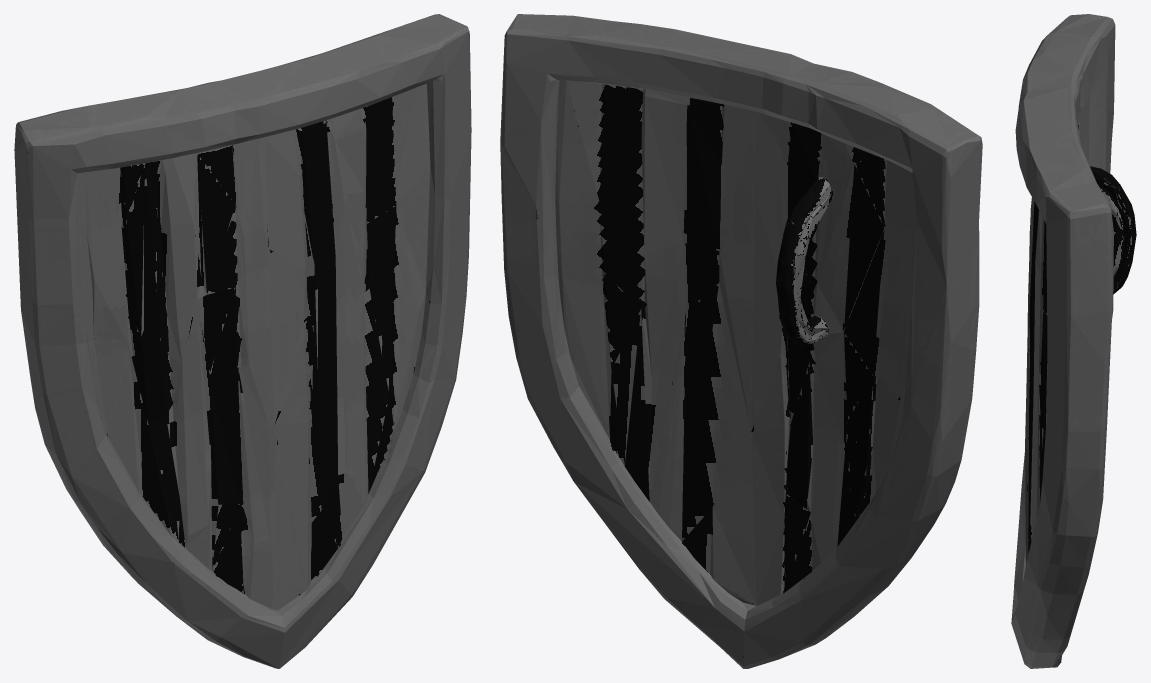
3 renders of one model, left to right at view 1: azimuth 30°, elevation 25°; view 2: azimuth 150°, elevation 25°; view 3: azimuth 270°, elevation 25°, orthographic. The views are drawn at different scales.
Visible parts, largest first — view 1: OBJ03b; view 2: OBJ03b; view 3: OBJ03b.
Boxes of the visible parts, <box> form: OBJ03b: <box>14,14,471,668</box>; OBJ03b: <box>500,14,982,668</box>; OBJ03b: <box>1011,14,1136,668</box>.
Bounding box in the file's own units: 0.2861 × 0.3579 × 0.0725.
1 material, 1 textured.
